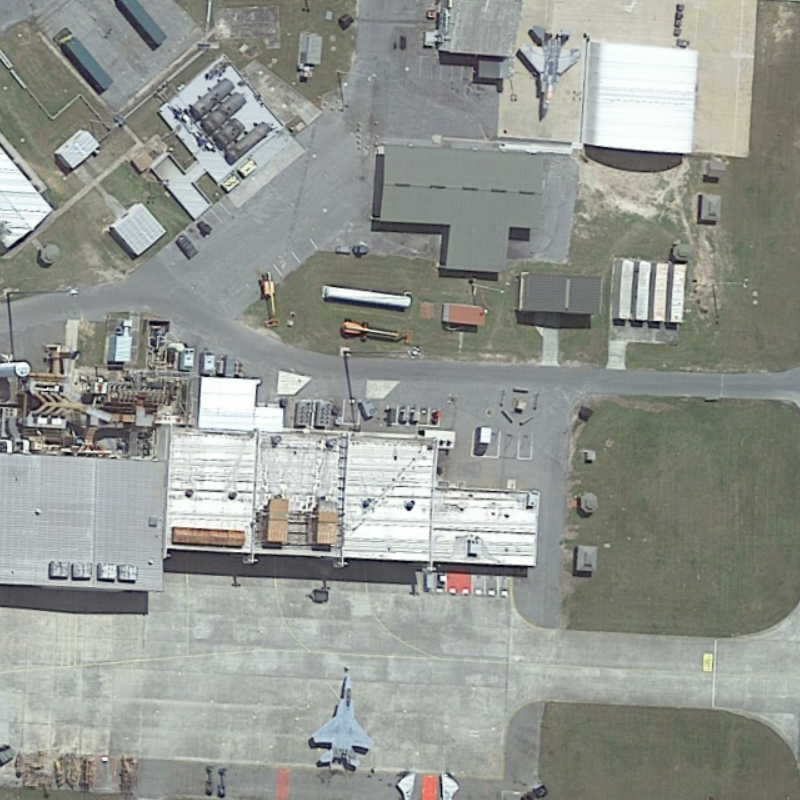A13: (304, 667, 376, 772), (516, 20, 584, 122)
